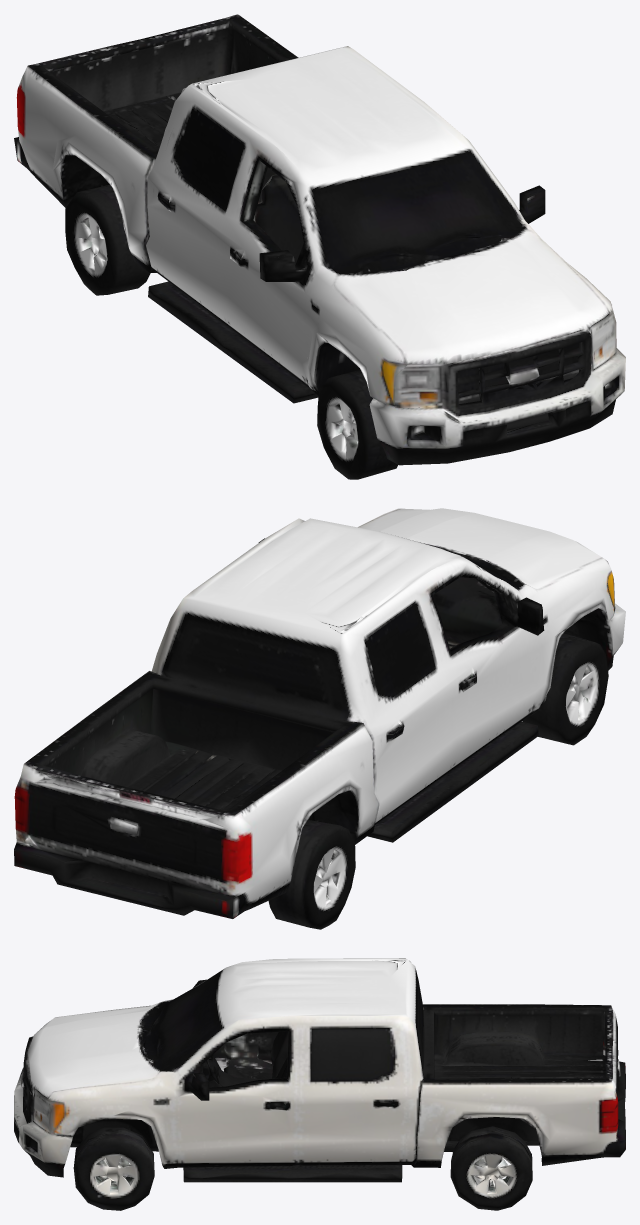
The model's file is car_pickup.glb.
3 renders of one model, top to bottom at view 1: azimuth 30°, elevation 25°; view 2: azimuth 150°, elevation 25°; view 3: azimuth 270°, elevation 25°, orthographic. The views are drawn at different scales.
Visible parts, largest first — view 1: frame; view 2: frame; view 3: frame.
Part boxes in pixels (x1=…): frame: x1=14, y1=14, x2=625, y2=479; frame: x1=14, y1=508, x2=625, y2=929; frame: x1=14, y1=958, x2=625, y2=1210.
Size of the model in its own units: 2.04 by 1.68 by 5.14.
1 material, 1 textured.
